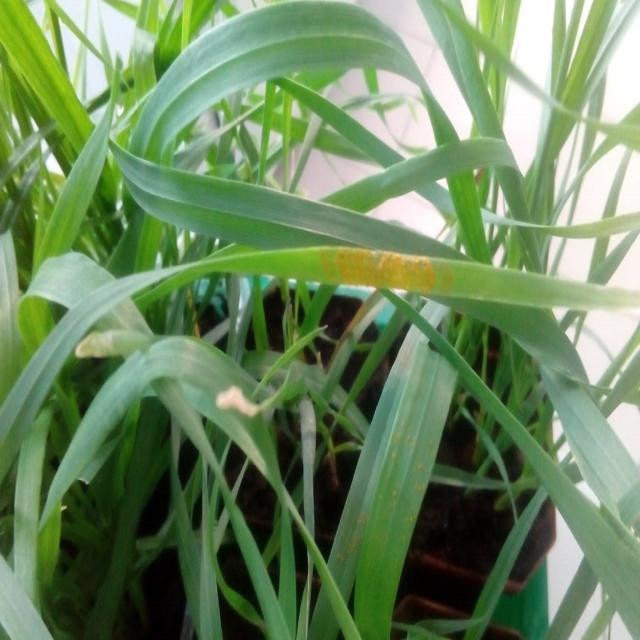Yellow Rust: (185, 244, 469, 296)
